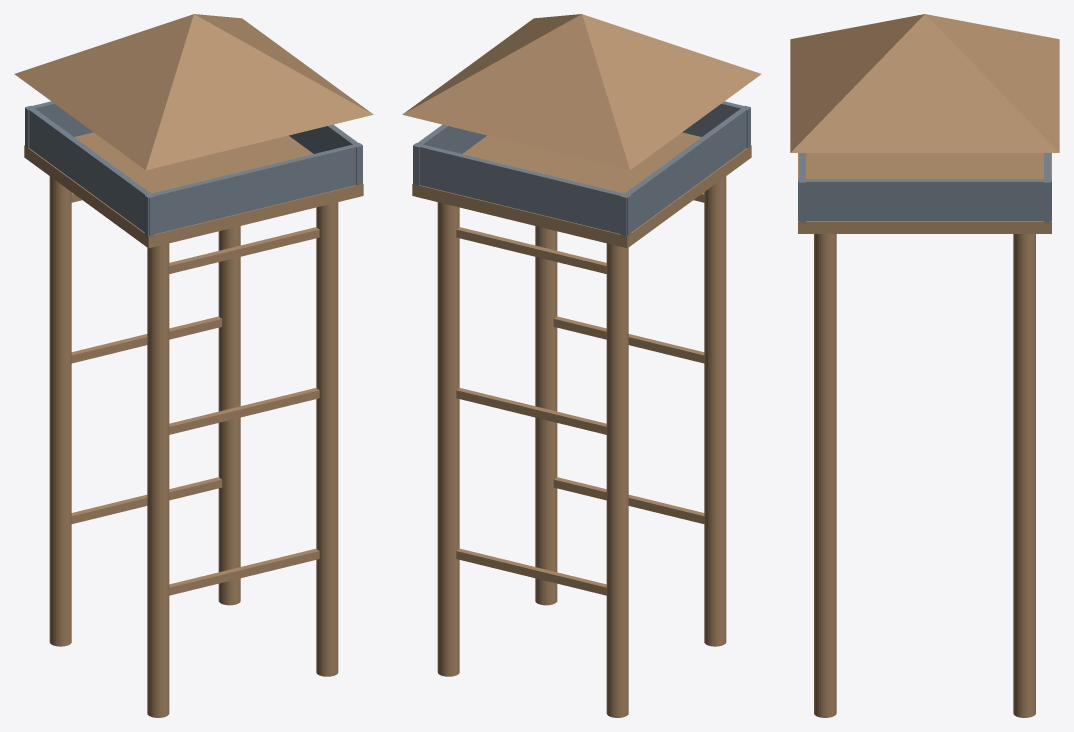
Rendered from prop_watchtower.glb.
3 views of the same model, side by side, from view 1: azimuth 30°, elevation 25°; view 2: azimuth 150°, elevation 25°; view 3: azimuth 270°, elevation 25° (orthographic). The views are drawn at different scales.
Visible parts, largest first — view 1: SM_Watchtower; view 2: SM_Watchtower; view 3: SM_Watchtower.
Boxes of the visible parts, bbox=[...] form: SM_Watchtower: bbox=[14, 14, 373, 717]; SM_Watchtower: bbox=[402, 14, 761, 717]; SM_Watchtower: bbox=[790, 14, 1059, 717].
Size of the model in its own units: 5.94 by 16 by 5.94.
